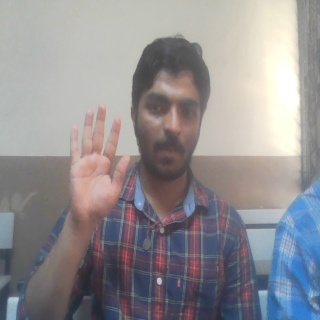Face: (129, 32, 212, 188)
Hello: (63, 104, 132, 224)
